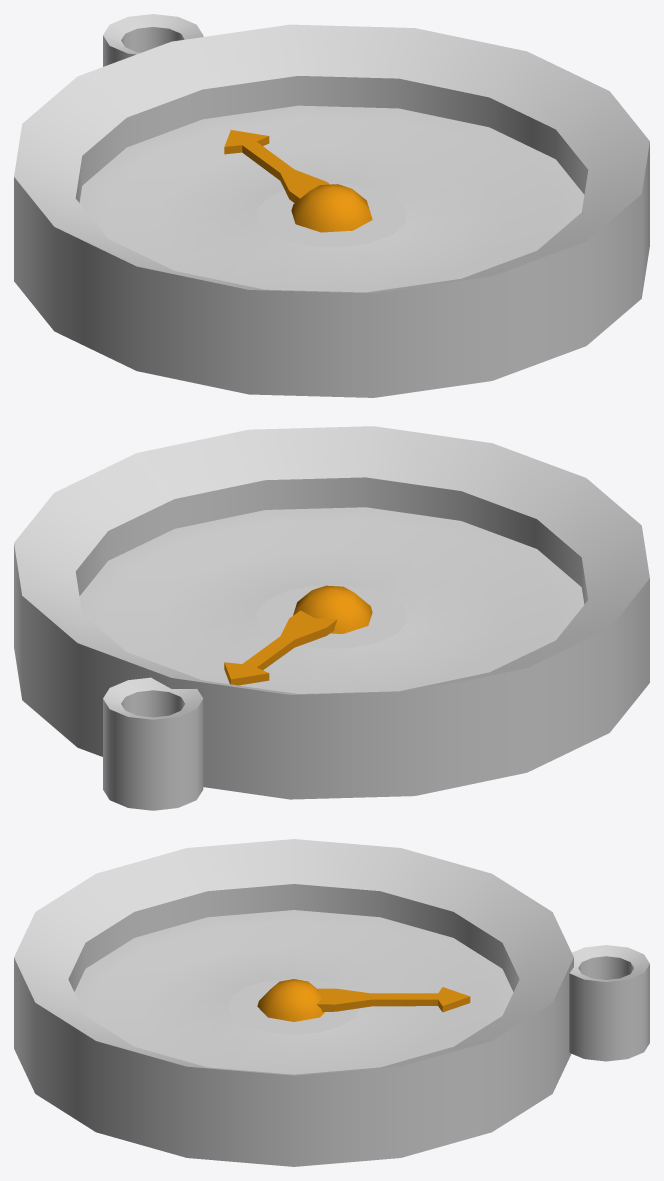
The model's file is Compass.fbx.
The picture shows the model from 3 angles, top to bottom: view 1: azimuth 30°, elevation 25°; view 2: azimuth 150°, elevation 25°; view 3: azimuth 270°, elevation 25°; orthographic projection. The views are drawn at different scales.
Parts seen in each view (by area): view 1: Compass, Arrow; view 2: Compass, Arrow; view 3: Compass, Arrow.
Boxes of the visible parts, x1=… form: Compass: x1=14, y1=14, x2=649, y2=397; Arrow: x1=224, y1=130, x2=372, y2=232; Compass: x1=14, y1=426, x2=649, y2=810; Arrow: x1=224, y1=585, x2=372, y2=685; Compass: x1=14, y1=839, x2=649, y2=1166; Arrow: x1=257, y1=979, x2=470, y2=1021.
Size of the model in its own units: 0.0749 by 0.0135 by 0.0851.
